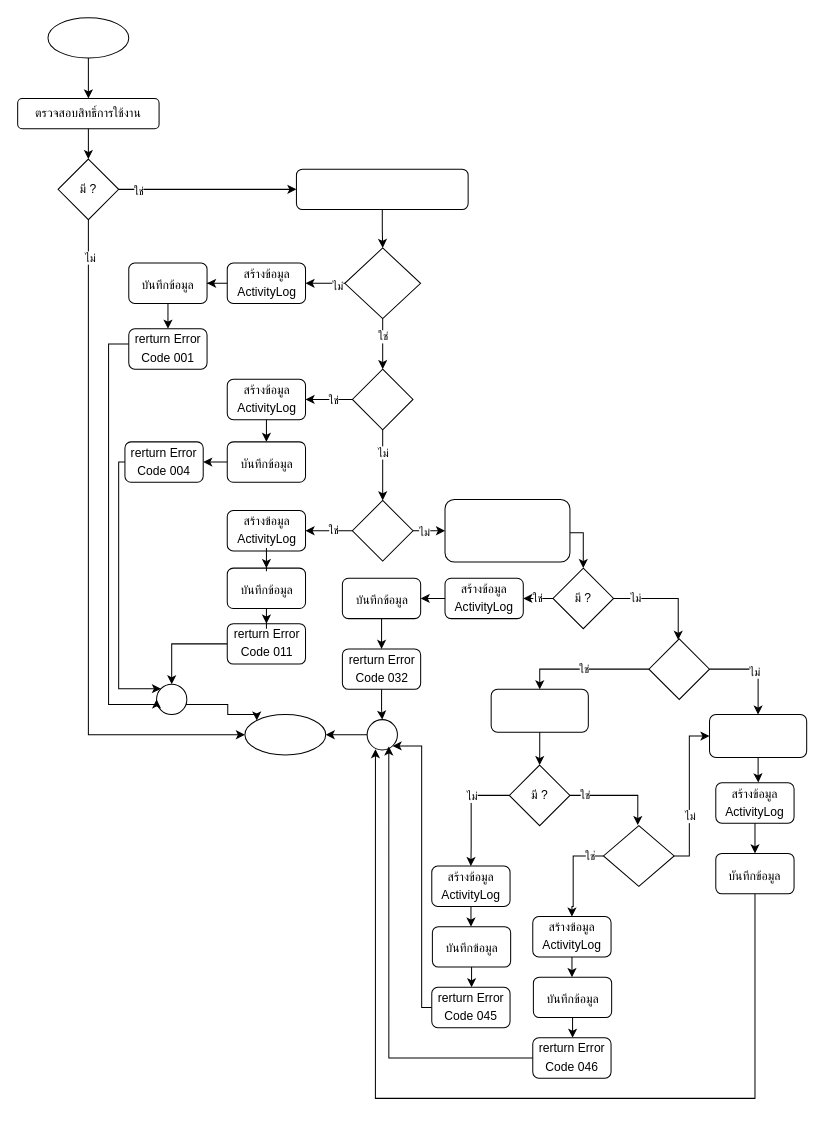
Some shapes in this 825 by 1124 pixel diagram are drawn without their labels. Each missing label, with the box of its shape:
Locked = 1 ?: (351, 499, 413, 561)
Position Under?: (648, 638, 710, 699)
positionUnder มีในฐานข้อมูลไหม: (490, 688, 588, 732)
status = 1 ?: (351, 368, 413, 430)
ตรวจสอบ Account สถานะการใช้งาน: (295, 168, 468, 210)
ตรวจสอบว่า positionCode ซ้ำในฐานข้อมูลไหม: (444, 498, 570, 562)
มีใน ระบบ ?: (344, 247, 421, 319)
สร้างข้อมูลตำแหน่ง: (709, 714, 807, 758)
สิ้นสุด: (244, 714, 326, 755)
อ้างอิง ตัวเอง ?: (602, 825, 674, 886)
เริ่ม: (47, 17, 129, 58)
